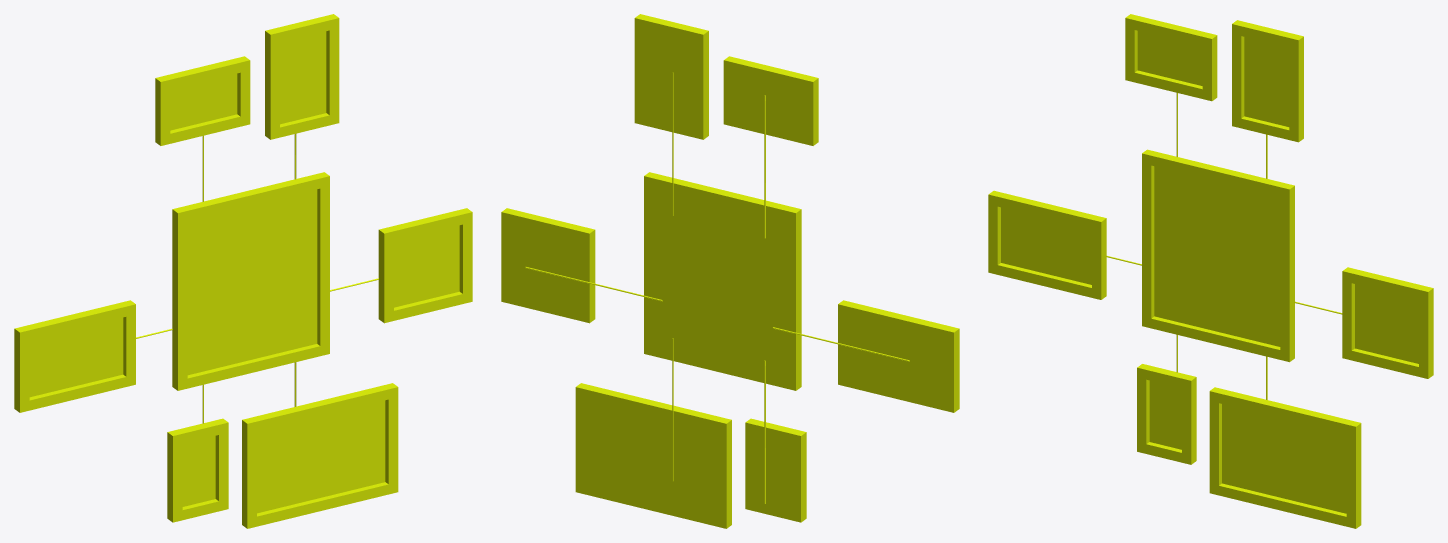
File: Group_PictureFrame_1.FBX
3 views of the same model, side by side, from view 1: azimuth 30°, elevation 25°; view 2: azimuth 150°, elevation 25°; view 3: azimuth 330°, elevation 25° (orthographic). The views are drawn at different scales.
Visible parts, largest first — view 1: pictureframe; view 2: pictureframe; view 3: pictureframe.
Part boxes in pixels (<box>): pictureframe: <box>14,14,472,528</box>; pictureframe: <box>501,14,959,528</box>; pictureframe: <box>988,14,1433,528</box>.
Size of the model in its own units: 1.66 by 1.71 by 0.0375.
